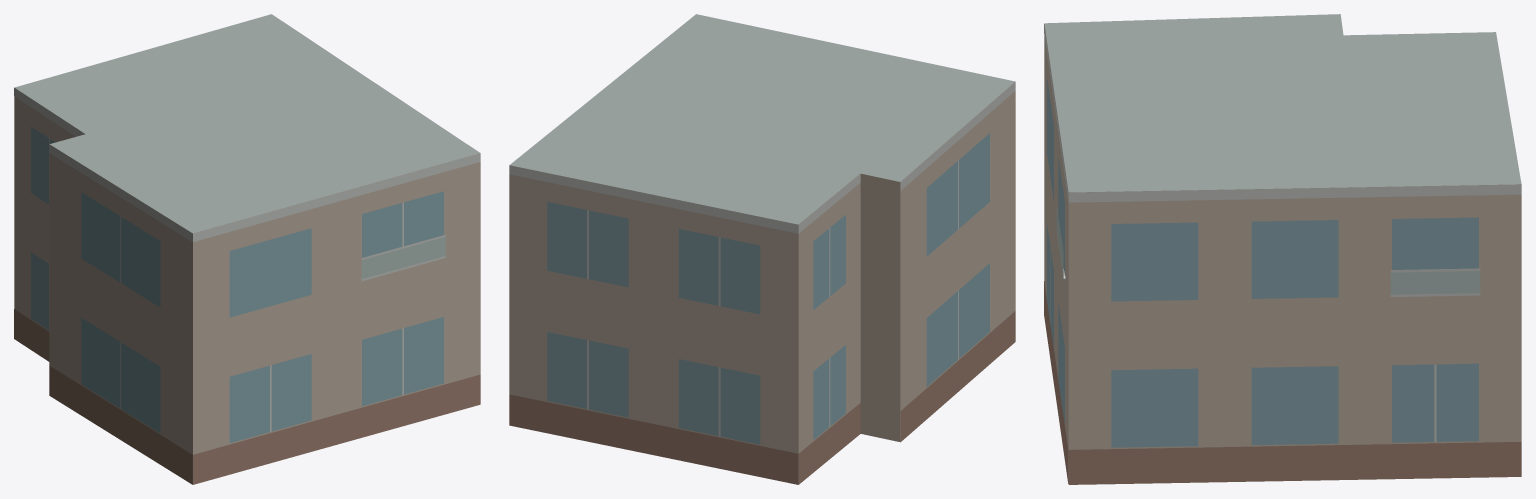
File: survey-upis-32757707.glb
3 views of the same model, side by side, from view 1: azimuth 30°, elevation 25°; view 2: azimuth 150°, elevation 25°; view 3: azimuth 270°, elevation 25° (orthographic). The views are drawn at different scales.
Parts seen in each view (by area): view 1: survey-upis-32757707.tmp; view 2: survey-upis-32757707.tmp; view 3: survey-upis-32757707.tmp.
Part boxes in pixels (x1,y1,x2,y2): survey-upis-32757707.tmp: (14,14,480,484); survey-upis-32757707.tmp: (509,14,1015,484); survey-upis-32757707.tmp: (1044,14,1521,484).
Bounding box in the file's own units: 9.17 × 7 × 10.37.
